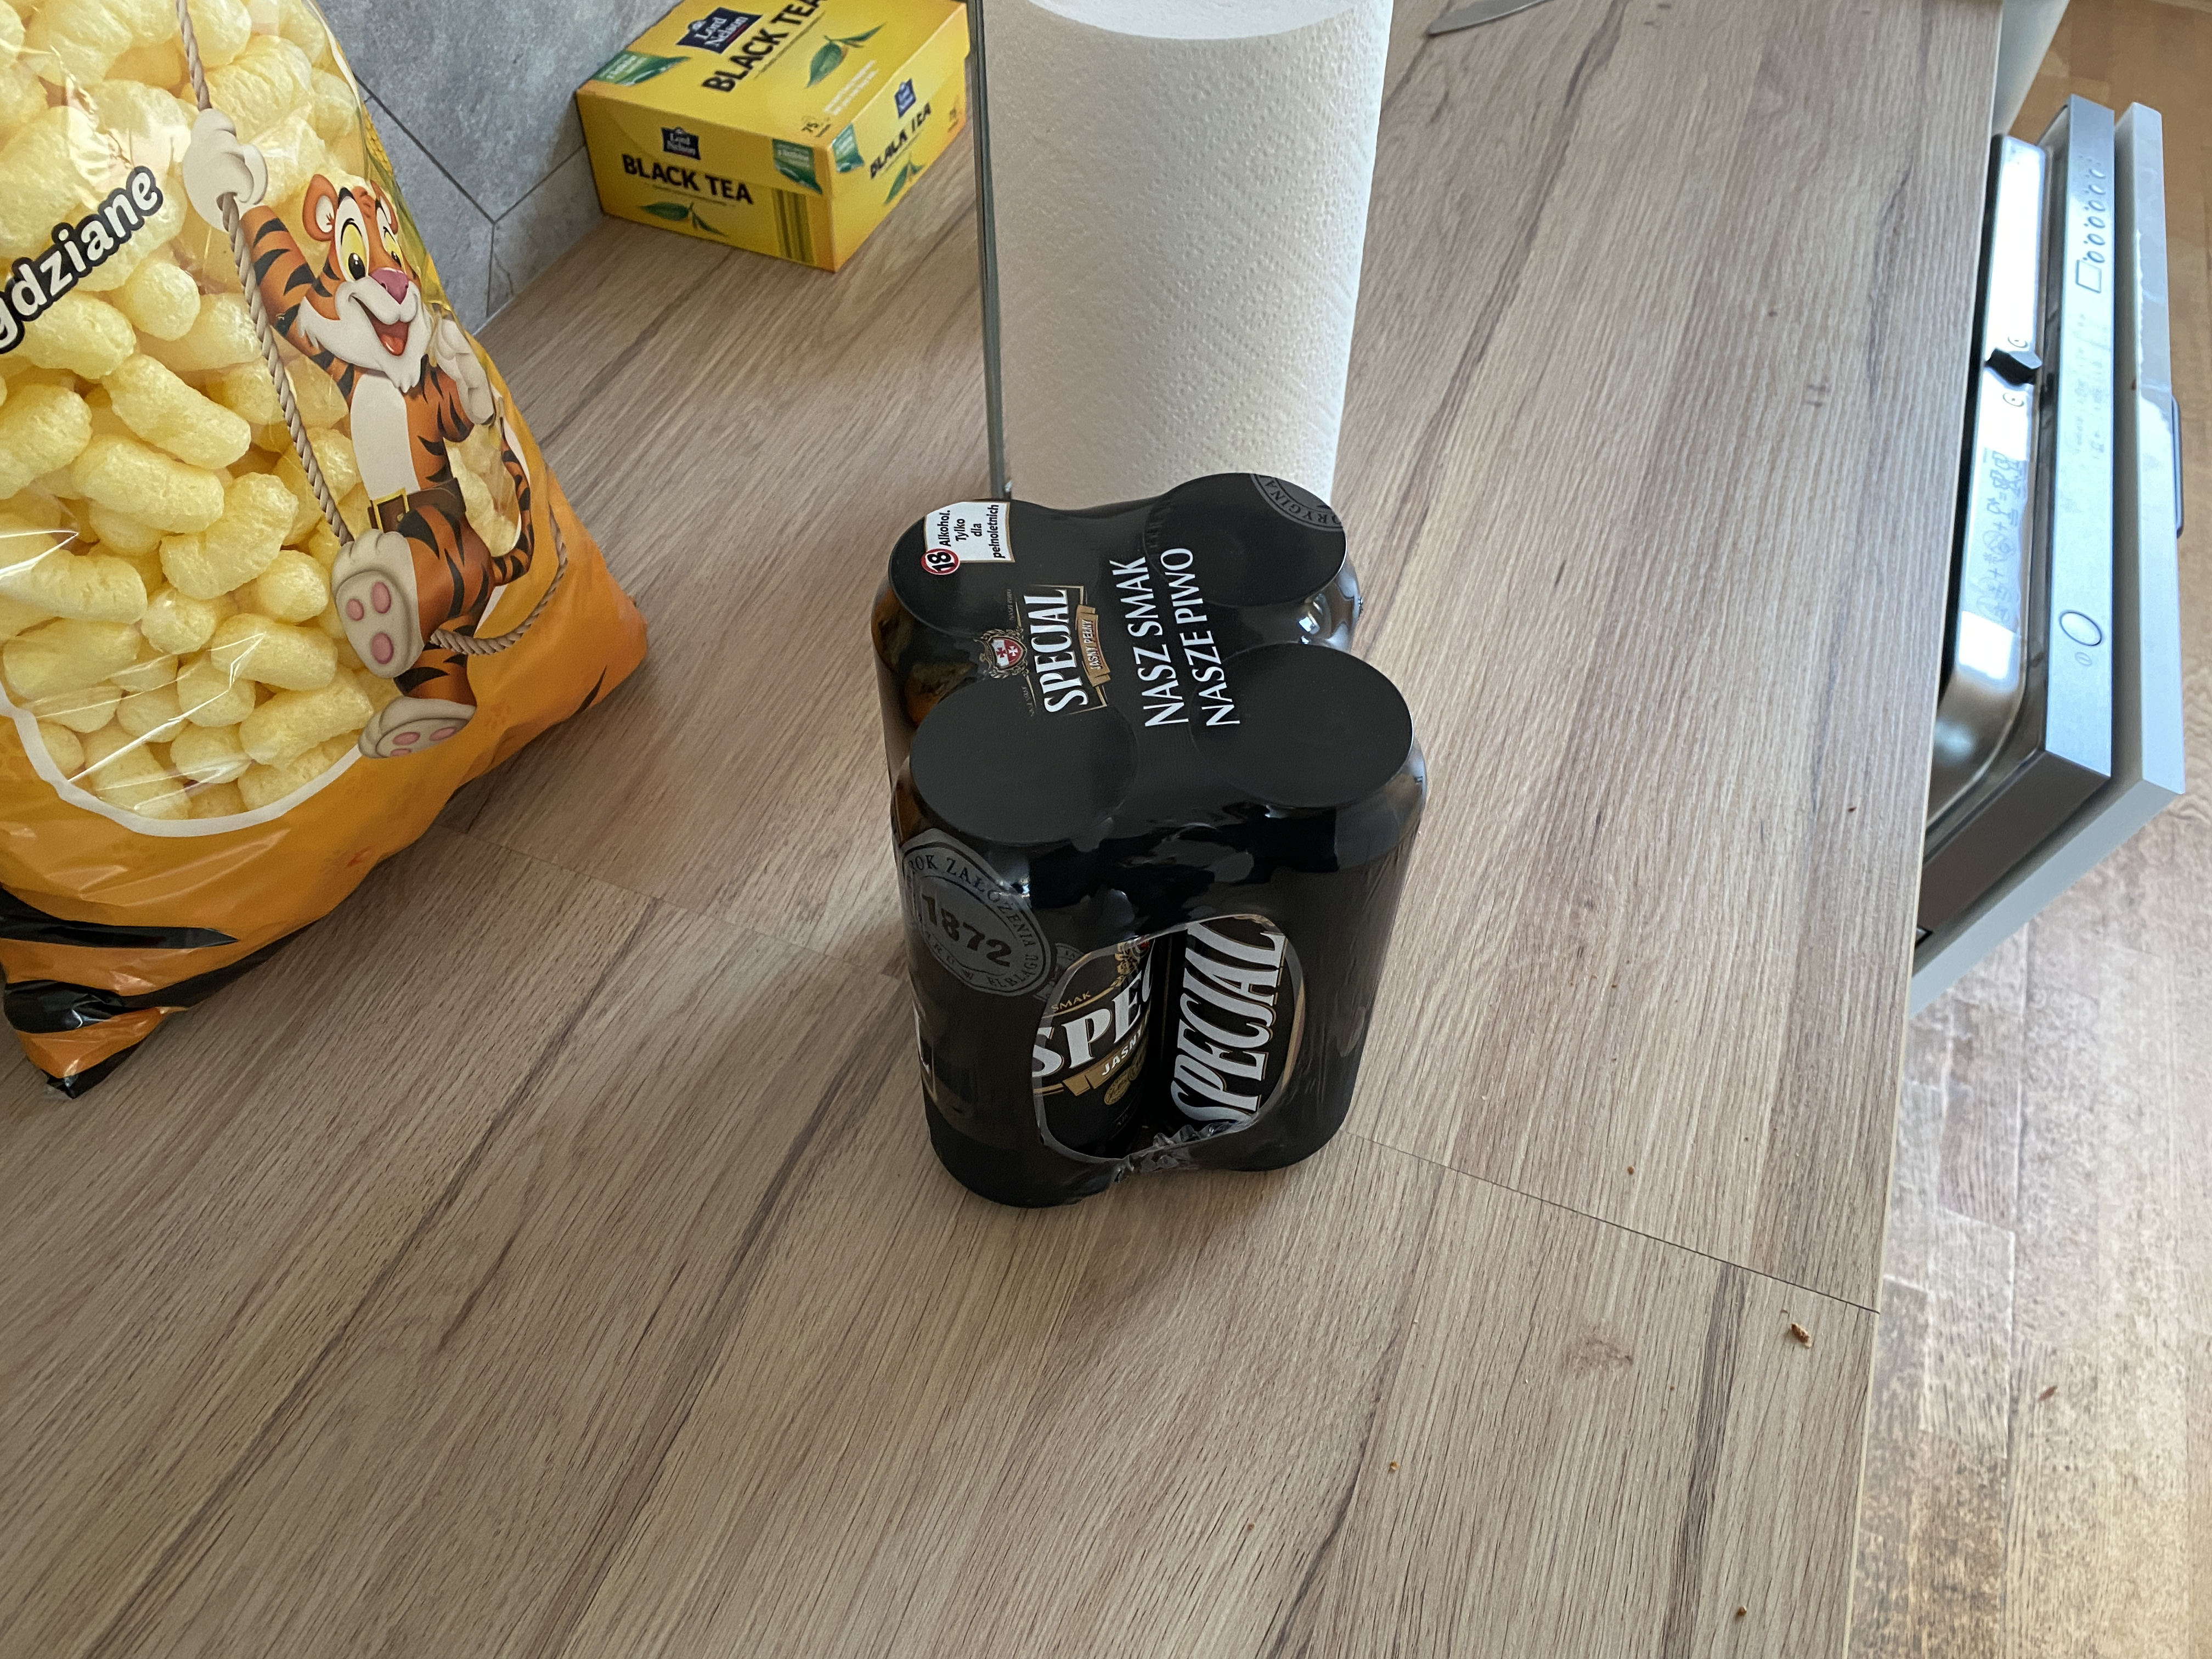specjal: (873, 469, 1428, 1204)
